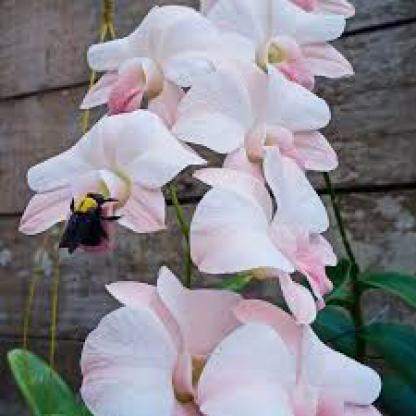ANGGREK: (23, 7, 375, 408)
